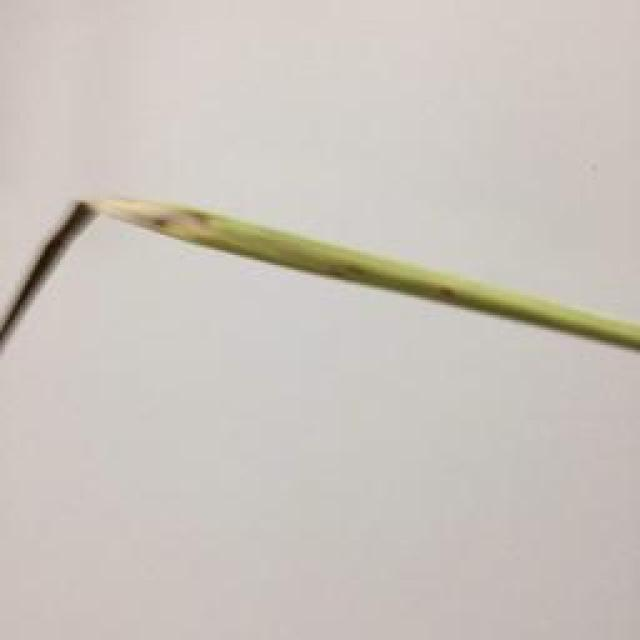Bacterial_Blight: (0, 182, 243, 363)
Brown_Spot: (124, 203, 231, 254), (320, 258, 380, 288), (433, 279, 462, 306)
